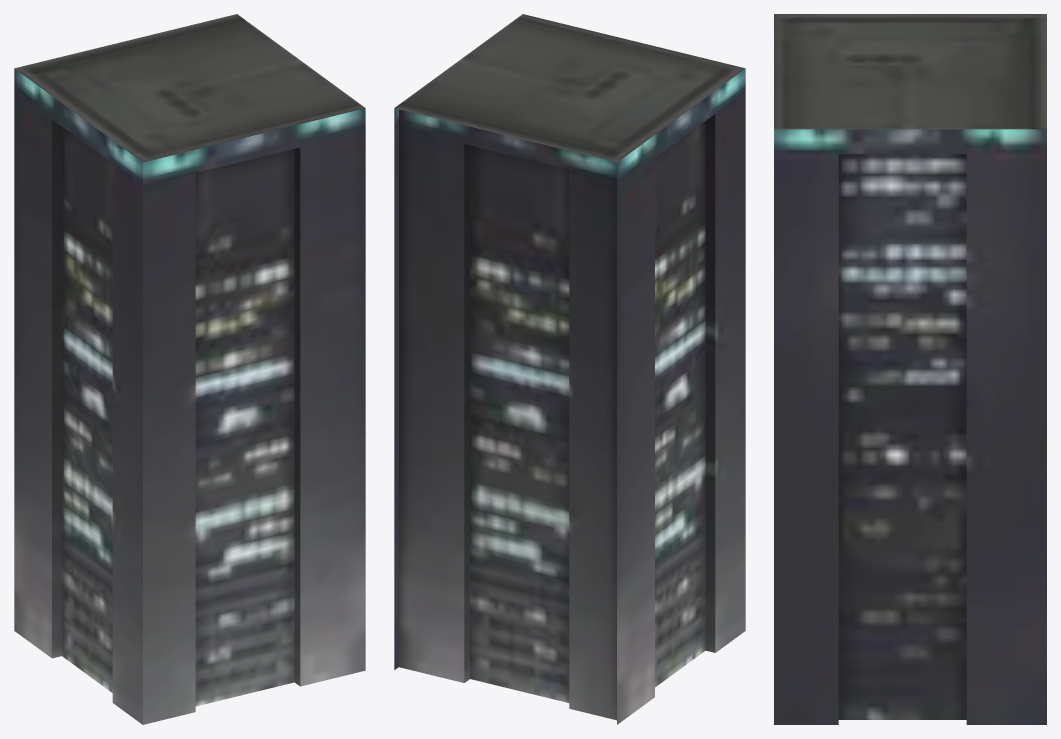
File: building-night-13.glb
3 renders of one model, left to right at view 1: azimuth 30°, elevation 25°; view 2: azimuth 150°, elevation 25°; view 3: azimuth 270°, elevation 25°, orthographic. The views are drawn at different scales.
Parts seen in each view (by area): view 1: Cube.001_Background_Night_Buildings_0.013; view 2: Cube.001_Background_Night_Buildings_0.013; view 3: Cube.001_Background_Night_Buildings_0.013.
Boxes of the visible parts, x1,y1,x2,y2 form: Cube.001_Background_Night_Buildings_0.013: [14, 14, 365, 724]; Cube.001_Background_Night_Buildings_0.013: [394, 14, 745, 724]; Cube.001_Background_Night_Buildings_0.013: [774, 14, 1046, 724].
Bounding box in the file's own units: 12.14 × 29.26 × 12.14.
1 material, 1 textured.
